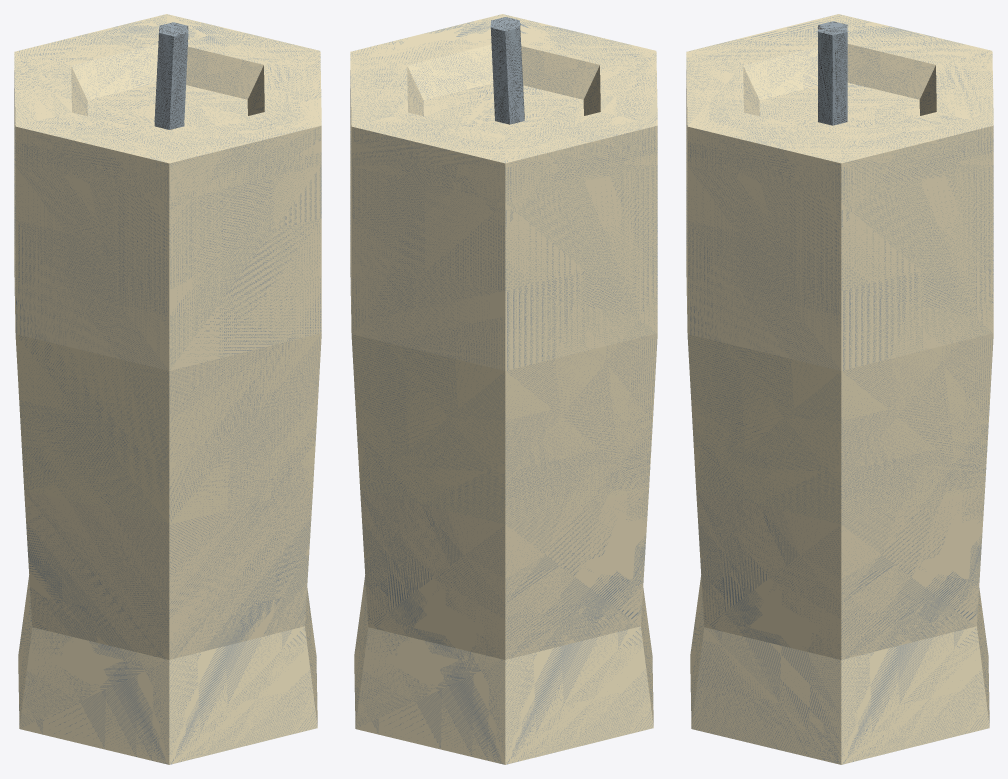
Rendered from Dungeon_Candle_02.fbx.
3 views of the same model, side by side, from view 1: azimuth 30°, elevation 25°; view 2: azimuth 150°, elevation 25°; view 3: azimuth 270°, elevation 25° (orthographic).
Visible parts, largest first — view 1: Model; view 2: Model; view 3: Model.
Boxes of the visible parts, box(x1,y1,x2,y2) form: Model: box(14, 14, 321, 764); Model: box(350, 14, 657, 764); Model: box(686, 14, 993, 764).
Size of the model in its own units: 22.49 by 46.66 by 19.56.
